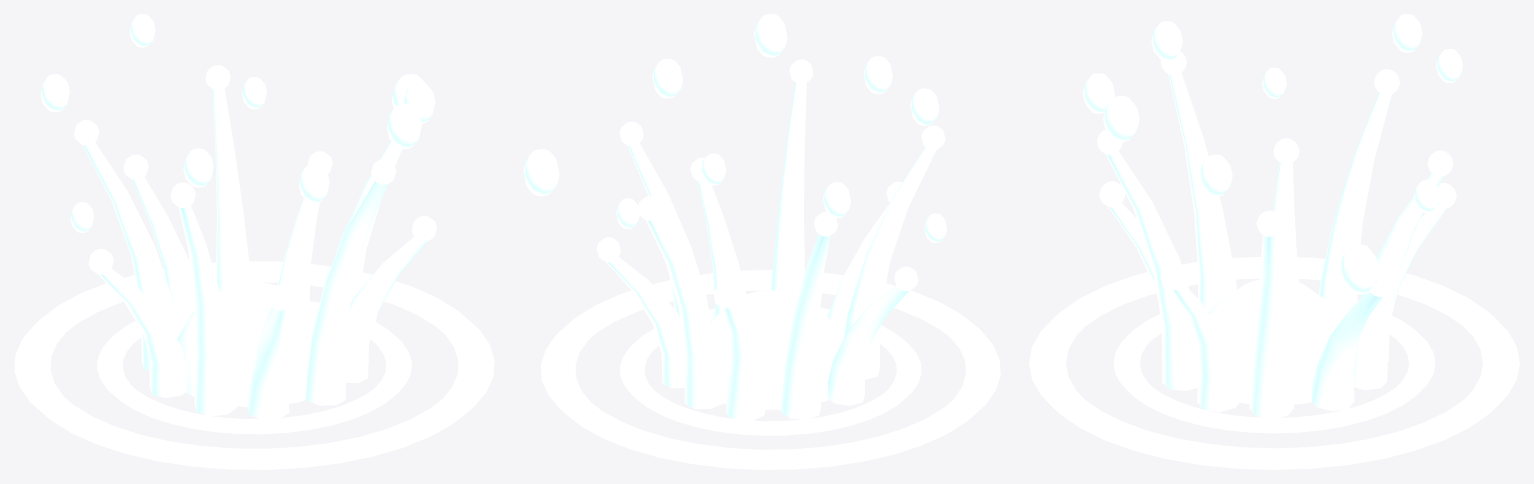
File: fall-splash.glb
3 renders of one model, left to right at view 1: azimuth 30°, elevation 25°; view 2: azimuth 150°, elevation 25°; view 3: azimuth 270°, elevation 25°, orthographic. The views are drawn at different scales.
Visible parts, largest first — view 1: Fall splash Splash water, Fall splash Splash foam; view 2: Fall splash Splash water, Fall splash Splash foam; view 3: Fall splash Splash water, Fall splash Splash foam.
Boxes of the visible parts, x1,y1,x2,y2 form: Fall splash Splash water: (40,14,435,418); Fall splash Splash foam: (14,65,494,469); Fall splash Splash water: (523,14,946,420); Fall splash Splash foam: (541,59,1000,469); Fall splash Splash water: (1083,14,1462,417); Fall splash Splash foam: (1029,51,1519,469).
Bounding box in the file's own units: 1.89 × 1.3 × 1.86.
